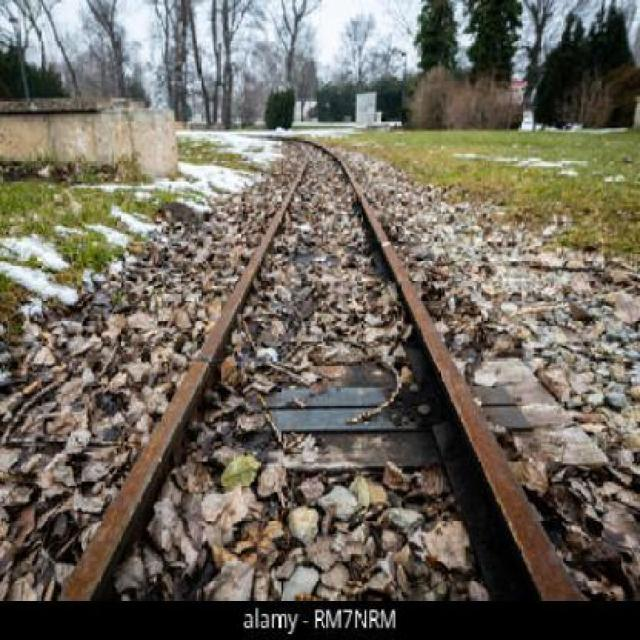defective: (146, 278, 284, 461)
